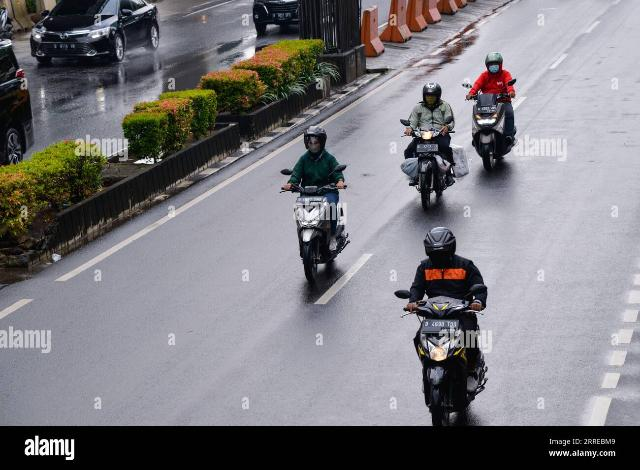helm: (425, 229, 457, 266), (305, 128, 327, 154), (424, 84, 443, 106), (486, 54, 504, 75)
motor: (402, 298, 489, 428), (280, 184, 351, 283), (403, 129, 456, 212), (466, 94, 517, 173)
